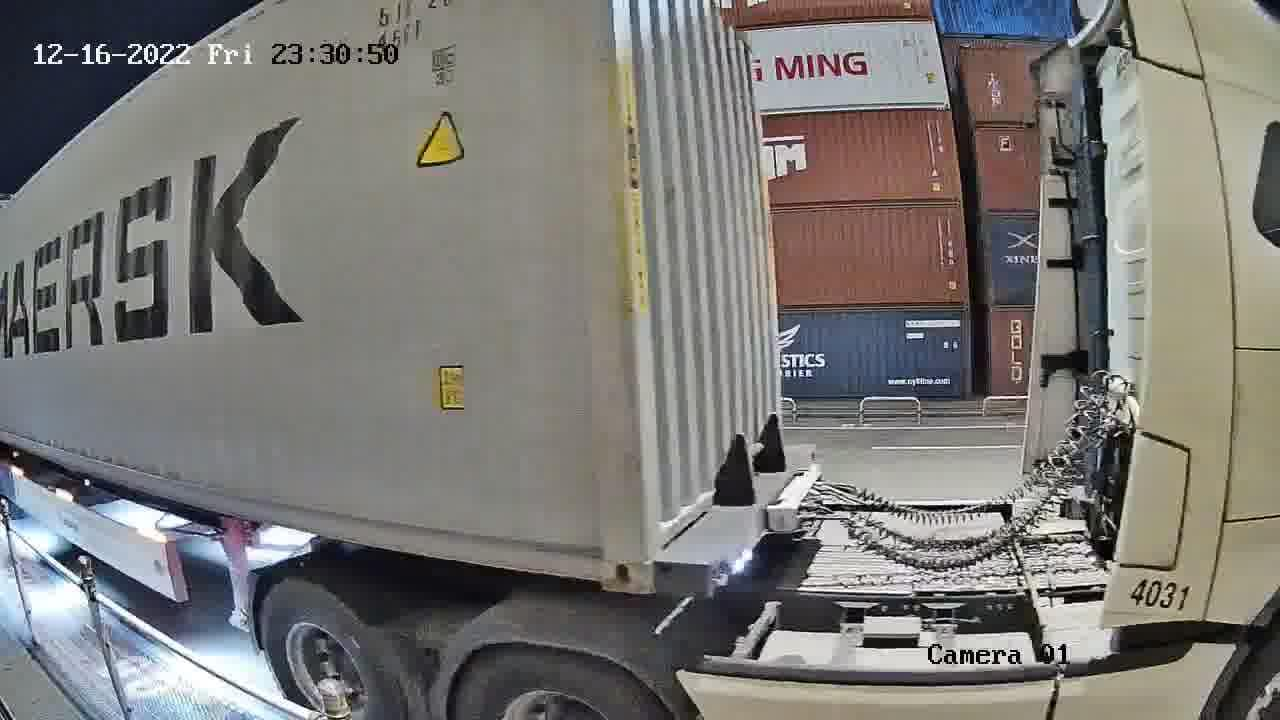Chassis: (657, 443, 818, 598)
Hole_R: (565, 504, 649, 590)
Tire: (264, 580, 402, 719), (451, 643, 672, 719)
